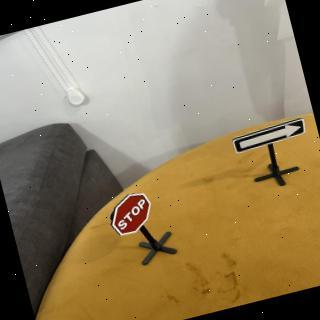sign_oneway_right: (230, 117, 311, 157)
sign_stop: (106, 189, 159, 239)
